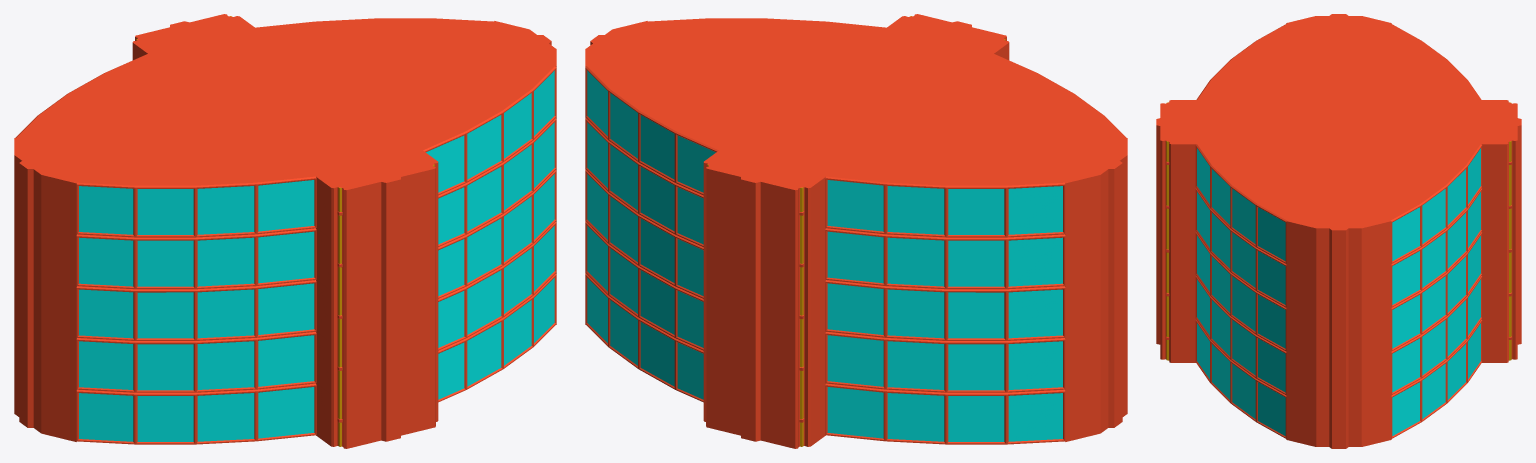
File: SM_Skyscraper_B_Floor_Small_City.fbx
The picture shows the model from 3 angles, left to right: view 1: azimuth 30°, elevation 25°; view 2: azimuth 150°, elevation 25°; view 3: azimuth 270°, elevation 25°; orthographic projection. The views are drawn at different scales.
Visible parts, largest first — view 1: SM_Skyscraper_B_Floor_Small_City; view 2: SM_Skyscraper_B_Floor_Small_City; view 3: SM_Skyscraper_B_Floor_Small_City.
Boxes of the visible parts, left/top/right/bottom form: SM_Skyscraper_B_Floor_Small_City: left=14, top=14, right=556, bottom=448; SM_Skyscraper_B_Floor_Small_City: left=585, top=14, right=1127, bottom=448; SM_Skyscraper_B_Floor_Small_City: left=1156, top=14, right=1521, bottom=448.
Size of the model in its own units: 31.8 by 15 by 22.72.
